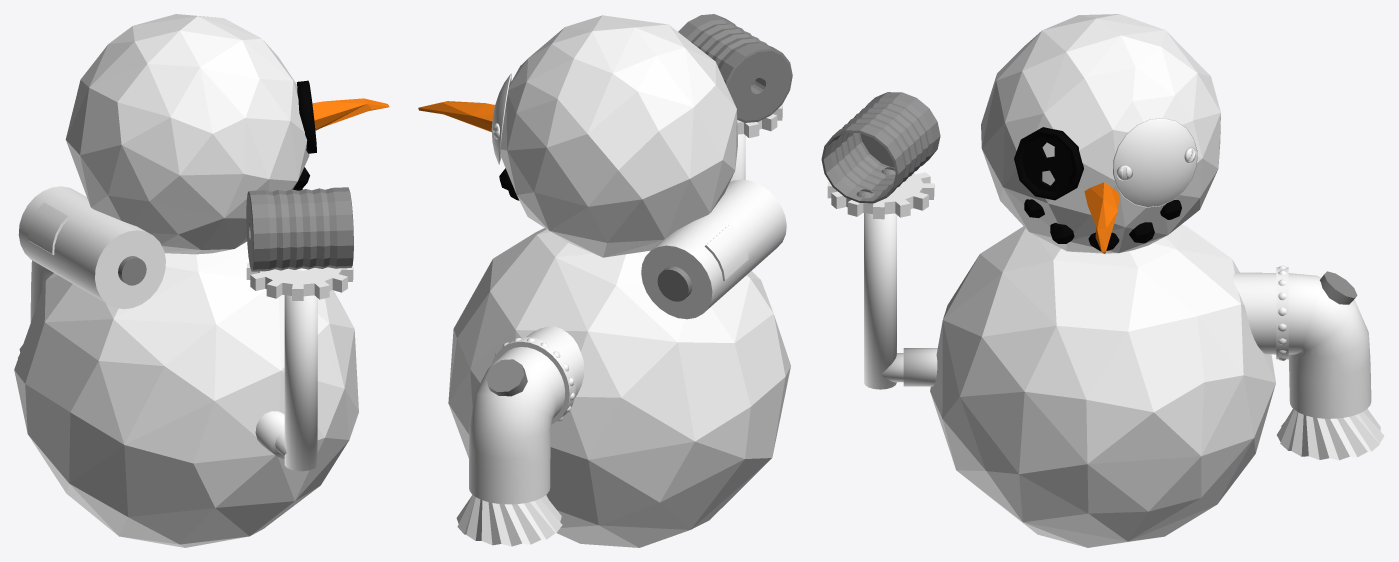
The model's file is scrapbot.fbx.
The picture shows the model from 3 angles, left to right: view 1: azimuth 30°, elevation 25°; view 2: azimuth 150°, elevation 25°; view 3: azimuth 270°, elevation 25°; orthographic projection.
Parts seen in each view (by area): view 1: Body, Head, SnowStorage, Can, RightArm, LeftArm; view 2: Body, Head, LeftArm, SnowStorage, Can, RightArm; view 3: Body, Head, LeftArm, Can, RightArm.
Boxes of the visible parts, box(x1,y1,x2,y2) form: Body: box(14, 241, 358, 547); Head: box(65, 14, 389, 254); SnowStorage: box(18, 186, 165, 309); Can: box(246, 187, 353, 300); RightArm: box(255, 268, 317, 471); LeftArm: box(18, 260, 53, 358); Body: box(448, 228, 790, 547); Head: box(418, 15, 737, 257); LeftArm: box(456, 326, 584, 546); SnowStorage: box(641, 179, 786, 319); Can: box(678, 14, 792, 137); RightArm: box(730, 134, 745, 181); Body: box(930, 224, 1275, 547); Head: box(981, 14, 1220, 253); LeftArm: box(1233, 265, 1384, 460); Can: box(821, 92, 940, 219); RightArm: box(864, 213, 937, 389).
Bounding box in the file's own units: 235 × 326 × 329.
Materials: 1 (1 with a texture image).
